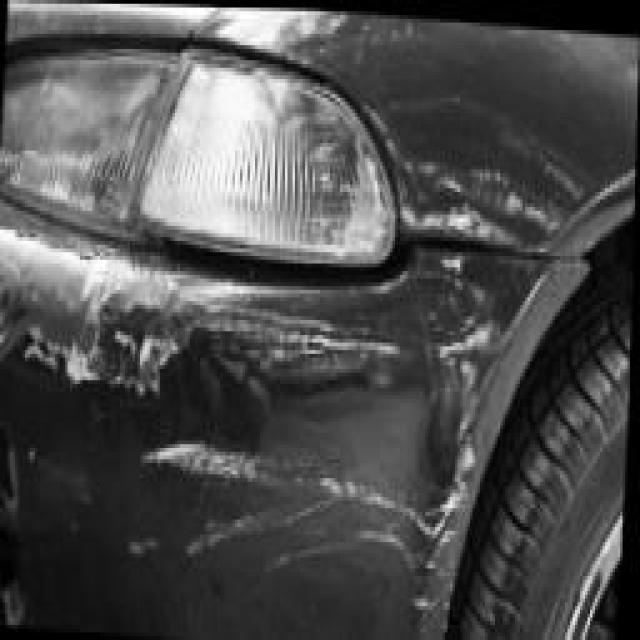Bumper: (0, 203, 590, 640)
